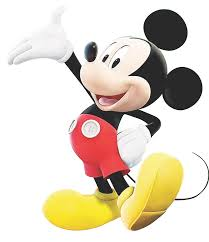mickeymouse: (7, 7, 194, 224)
